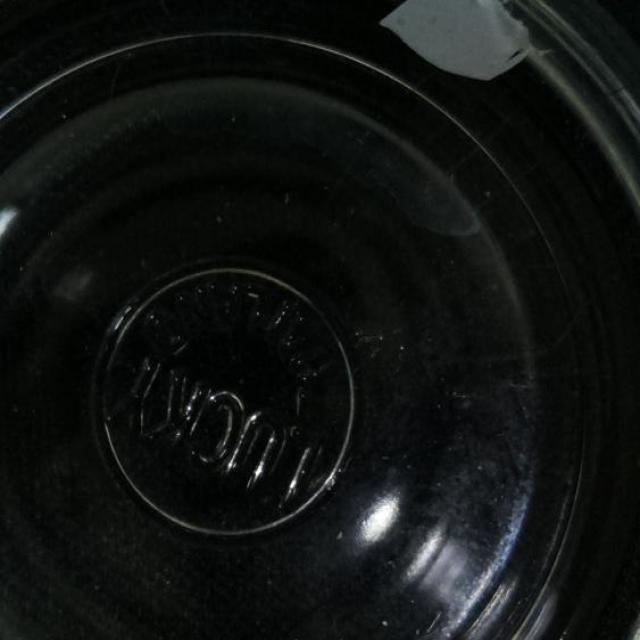fiber: (378, 0, 547, 81)
